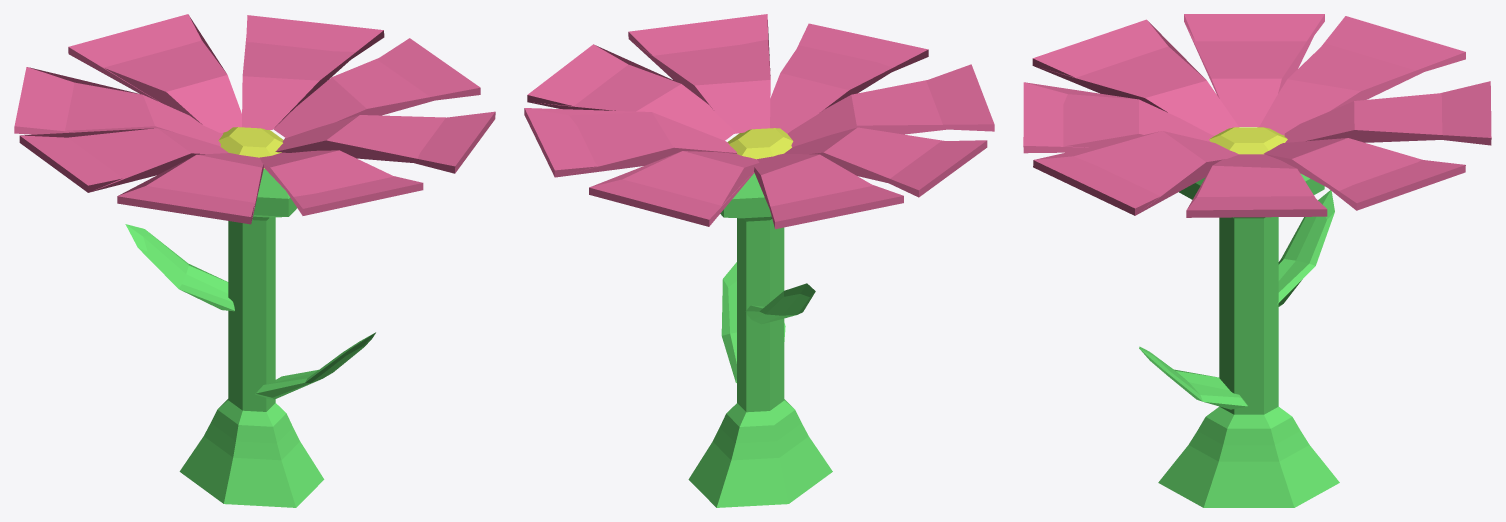
The model's file is ExportedBlenderFBXFile.fbx.
3 renders of one model, left to right at view 1: azimuth 30°, elevation 25°; view 2: azimuth 150°, elevation 25°; view 3: azimuth 270°, elevation 25°, orthographic. The views are drawn at different scales.
Parts seen in each view (by area): view 1: Stem.003, Cube.026, Cube.027, Cube.030, Cube.025, Cube.029, Cube.024, Cube.028, Cube.031, Leaf.009, Leaf.010; view 2: Stem.003, Cube.029, Cube.027, Cube.031, Cube.028, Cube.030, Cube.026, Cube.024, Cube.025, Leaf.009, Leaf.010; view 3: Stem.003, Cube.025, Cube.028, Cube.024, Cube.029, Cube.026, Cube.031, Cube.027, Cube.030, Leaf.009, Leaf.010.
Part boxes in pixels (bbox=[...]): Stem.003: bbox=[179, 127, 324, 507]; Cube.026: bbox=[68, 14, 241, 133]; Cube.027: bbox=[242, 15, 384, 129]; Cube.030: bbox=[273, 38, 480, 138]; Cube.025: bbox=[14, 67, 223, 146]; Cube.029: bbox=[275, 111, 495, 173]; Cube.024: bbox=[19, 128, 228, 192]; Cube.028: bbox=[117, 153, 263, 224]; Cube.031: bbox=[259, 150, 423, 215]; Leaf.009: bbox=[125, 224, 234, 311]; Leaf.010: bbox=[255, 332, 375, 399]; Stem.003: bbox=[688, 128, 832, 507]; Cube.029: bbox=[628, 14, 770, 133]; Cube.027: bbox=[524, 108, 736, 177]; Cube.031: bbox=[770, 23, 928, 133]; Cube.028: bbox=[787, 64, 994, 147]; Cube.030: bbox=[527, 44, 736, 140]; Cube.026: bbox=[589, 151, 759, 226]; Cube.024: bbox=[784, 127, 987, 197]; Cube.025: bbox=[754, 154, 903, 229]; Leaf.009: bbox=[745, 283, 815, 324]; Leaf.010: bbox=[721, 262, 785, 382]; Stem.003: bbox=[1158, 127, 1339, 507]; Cube.025: bbox=[1257, 16, 1465, 135]; Cube.028: bbox=[1032, 19, 1238, 135]; Cube.024: bbox=[1184, 14, 1324, 126]; Cube.029: bbox=[1033, 131, 1238, 215]; Cube.026: bbox=[1284, 81, 1491, 145]; Cube.031: bbox=[1023, 82, 1213, 153]; Cube.027: bbox=[1264, 138, 1465, 210]; Cube.030: bbox=[1186, 154, 1327, 217]; Leaf.009: bbox=[1277, 190, 1334, 306]; Leaf.010: bbox=[1139, 346, 1247, 409].
Bounding box in the file's own units: 8.38 × 7.36 × 8.4.
